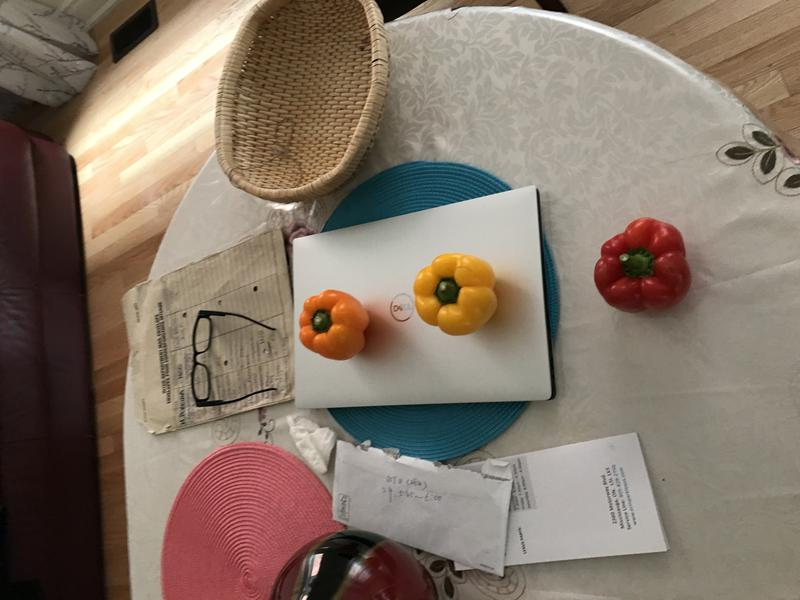orange_pepper: (297, 288, 373, 365)
red_pepper: (586, 211, 695, 316)
yellow_pepper: (411, 250, 501, 337)
